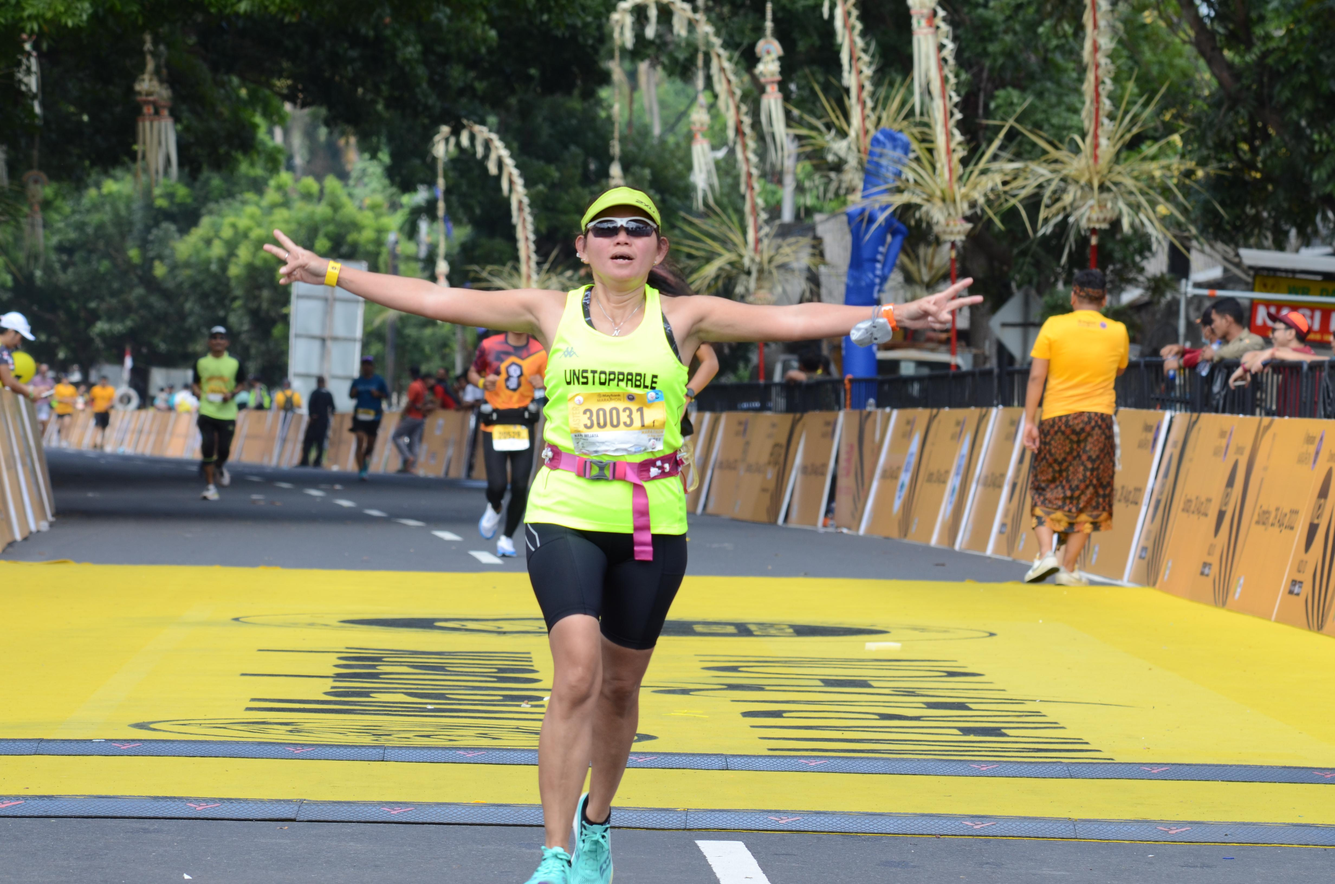bib: (569, 393, 665, 452), (492, 425, 530, 452), (207, 387, 223, 403), (357, 408, 375, 421)
